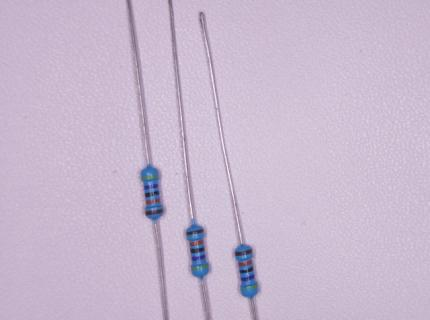Black band: (145, 190, 160, 198), (190, 246, 205, 254), (239, 266, 254, 274)
Brown band: (145, 208, 164, 216), (235, 248, 253, 256), (186, 229, 205, 235)
Orange band: (189, 239, 204, 247), (238, 260, 253, 267), (145, 198, 161, 204)
Violet band: (240, 274, 255, 282), (144, 183, 159, 190), (191, 255, 206, 261)
Yellow band: (190, 263, 209, 271), (240, 284, 258, 291), (142, 175, 160, 180)
